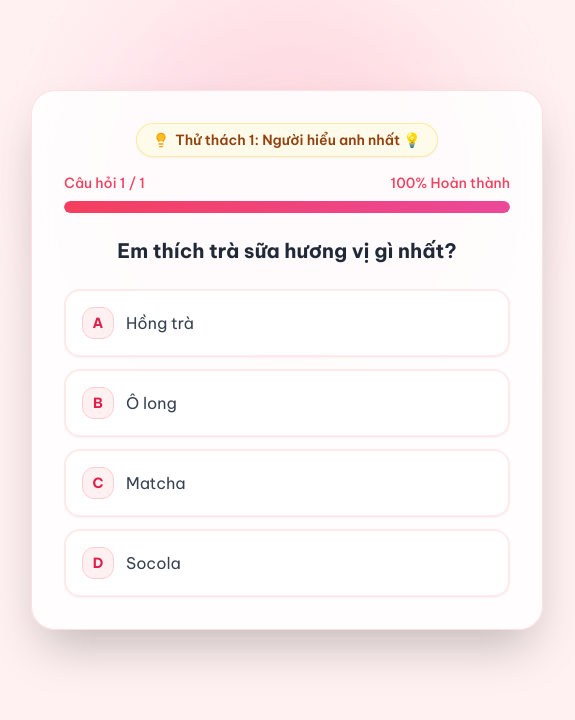
Test: QuizScreen Component › renders custom questions provided by ConfigProvider
This screenshot has width=575, height=720.
Expected: the heading with test id "quiz-question-title" reads "Em thích trà sữa hương vị gì nhất?", x1=117 y1=238 x2=457 y2=263
Expected: the text with test id "quiz-progress-text" reads "Câu hỏi 1 / 1", x1=64 y1=173 x2=145 y2=193
// Answer custom question
Click the button with test id "quiz-option-1" at (98, 403), box x1=64 y1=369 x2=510 y2=437
Wait 1200 ms
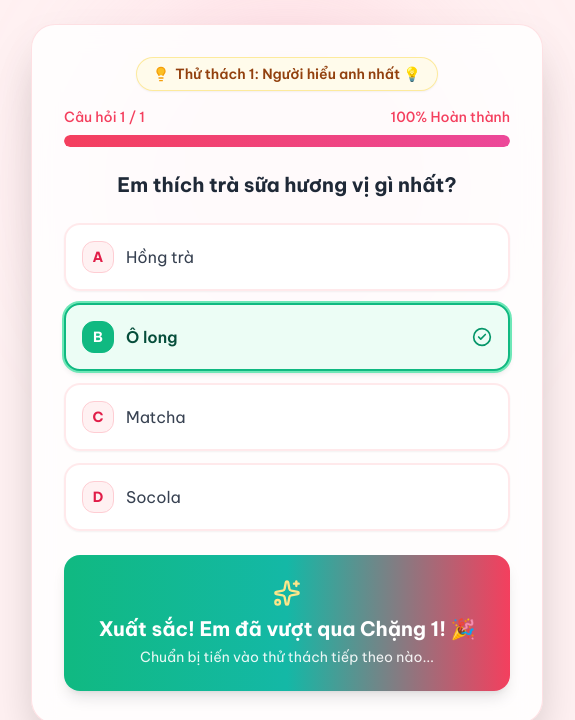
Result: the element with test id "celebration-banner" is shown at x1=64 y1=555 x2=510 y2=691
